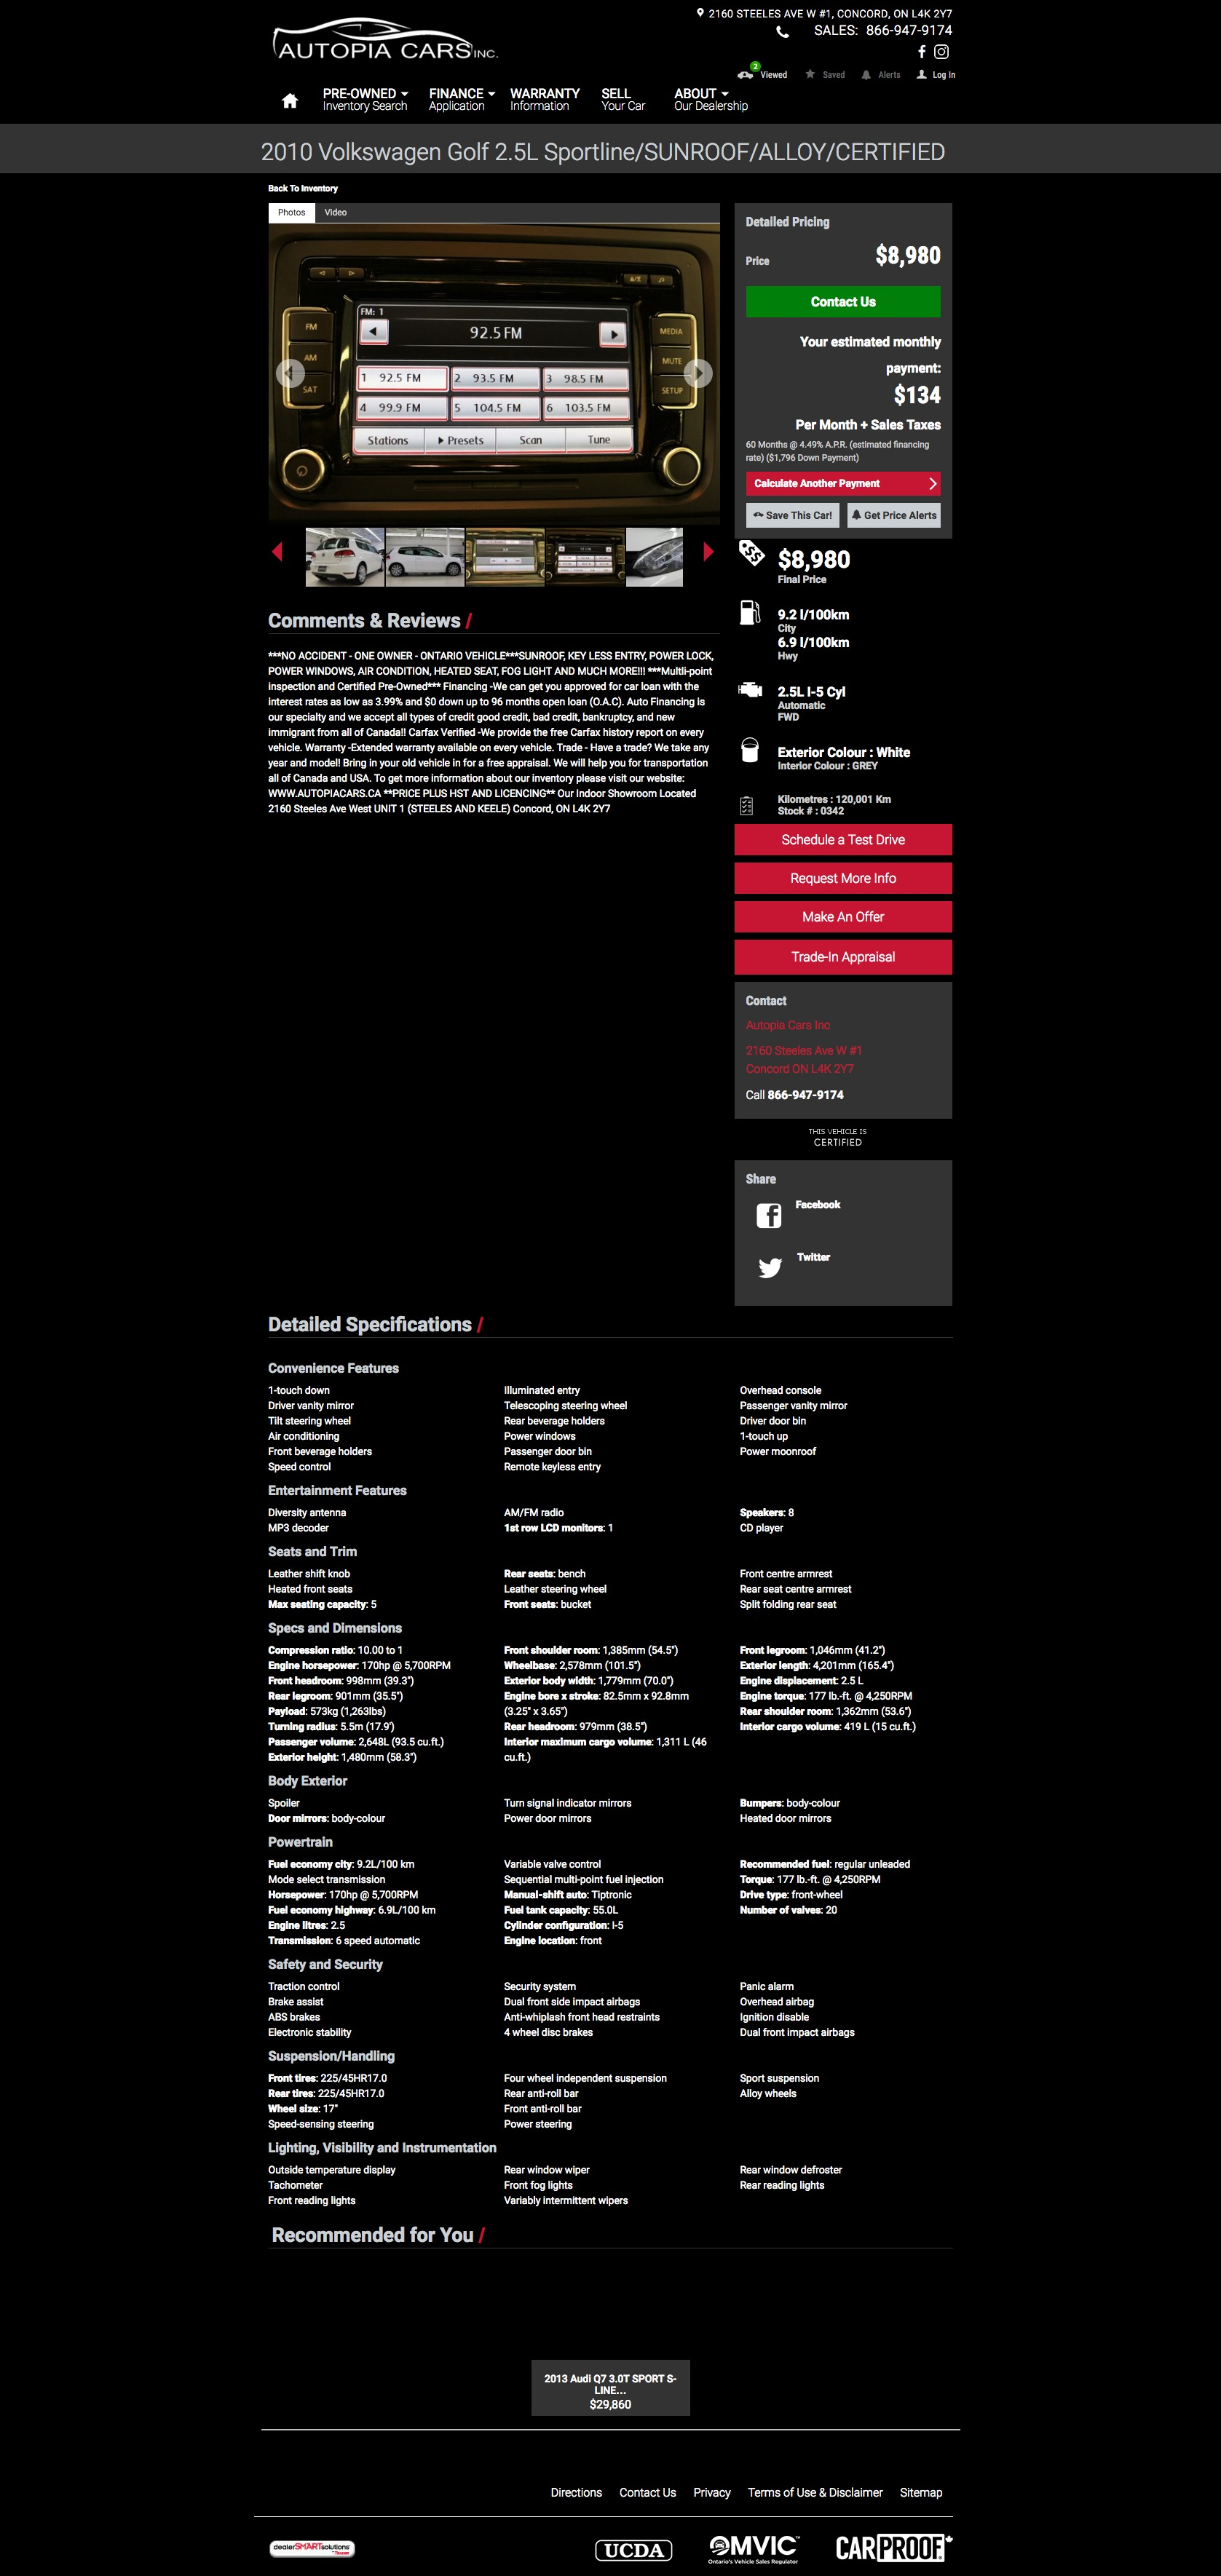car: (702, 540, 715, 564)
